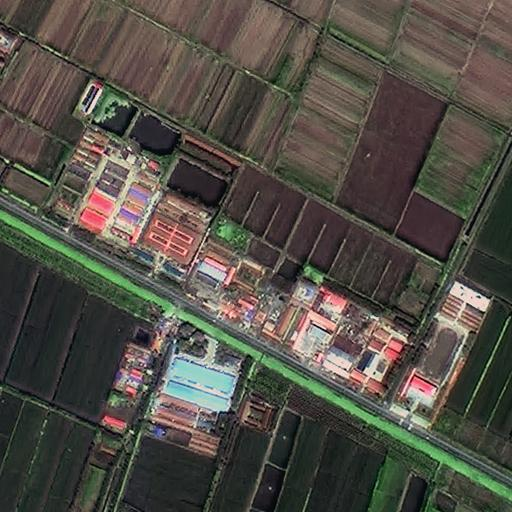school: (392, 279, 489, 426)
